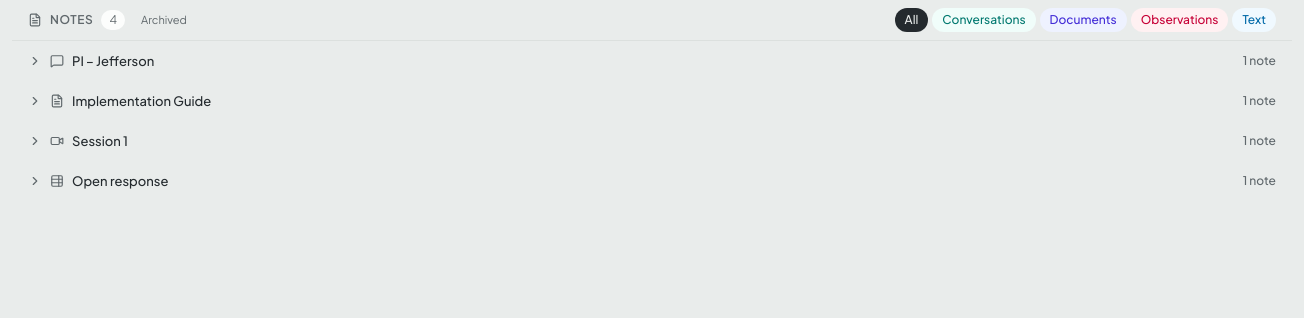
renders the observations group with its notes and clip label (#676)
Click the button "Session 1 1 note". click: (100, 141)
box: [12,121,1292,161]
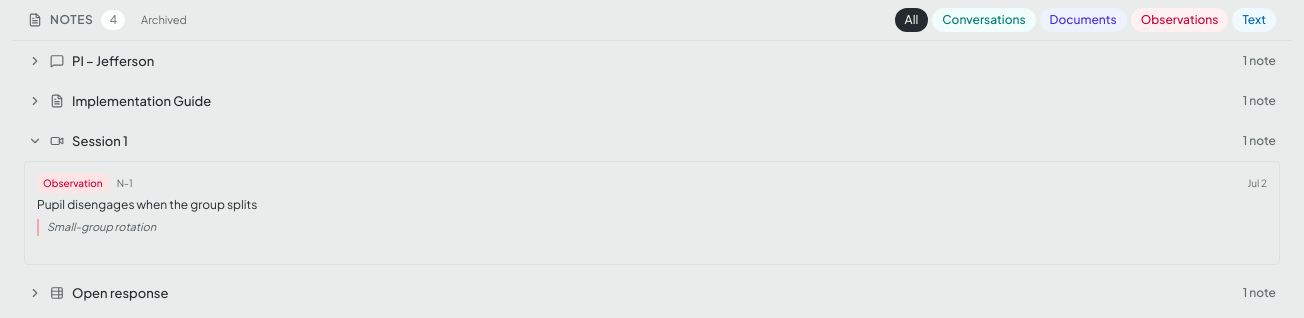
Expected: the text "Pupil disengages when the group splits" is shown, [37,197,257,212]
Expected: the text "Small-group rotation" is shown, [47,220,156,233]
